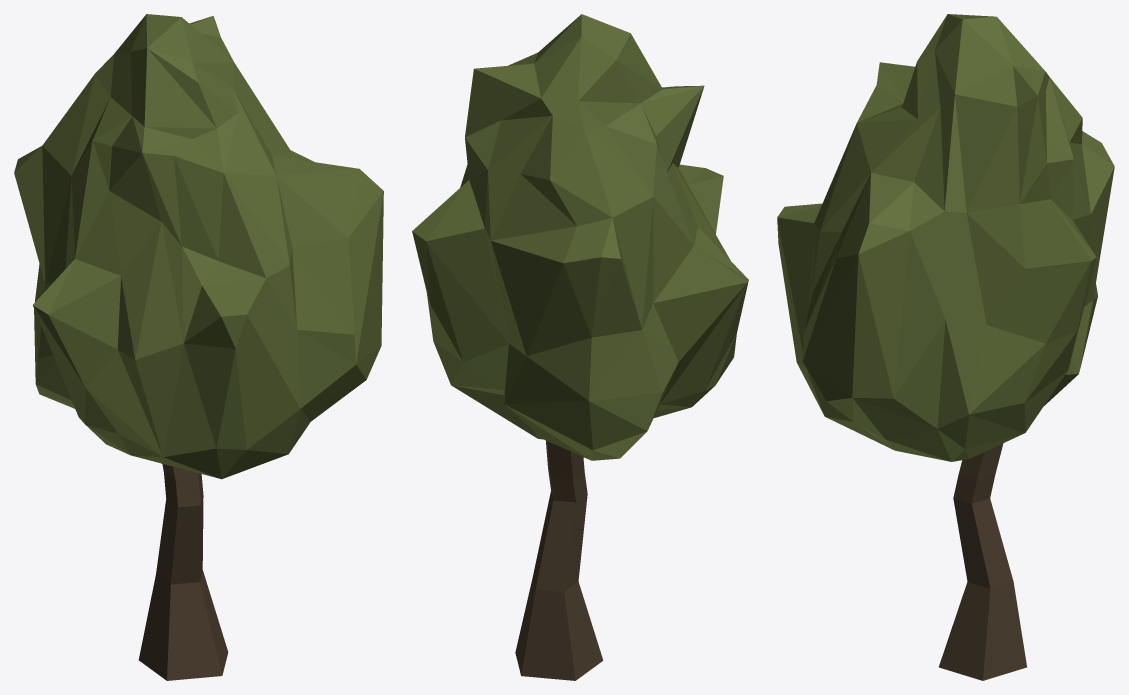
The model's file is tree_b.glb.
3 views of the same model, side by side, from view 1: azimuth 30°, elevation 25°; view 2: azimuth 150°, elevation 25°; view 3: azimuth 270°, elevation 25° (orthographic). The views are drawn at different scales.
Parts seen in each view (by area): view 1: SM_Env_Tree_02; view 2: SM_Env_Tree_02; view 3: SM_Env_Tree_02.
Part boxes in pixels (x1=…): SM_Env_Tree_02: x1=14, y1=14, x2=383, y2=680; SM_Env_Tree_02: x1=412, y1=14, x2=748, y2=680; SM_Env_Tree_02: x1=777, y1=14, x2=1114, y2=680.
Bounding box in the file's own units: 306 × 625 × 301.
Materials: 1 (1 with a texture image).
